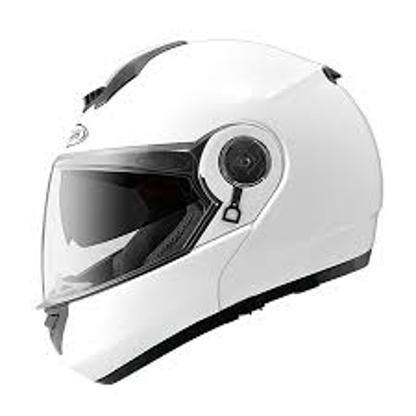not trash: (38, 36, 386, 388)
